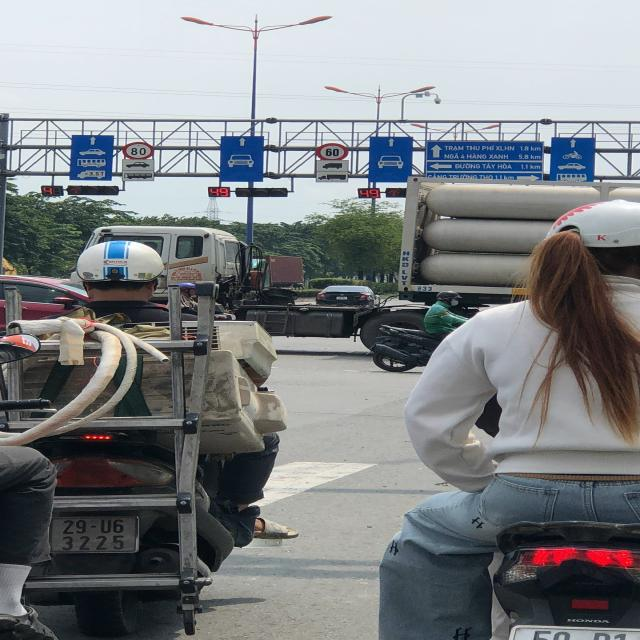Bien bao toc do toi da cho phep: (315, 141, 353, 163), (118, 139, 153, 159)
